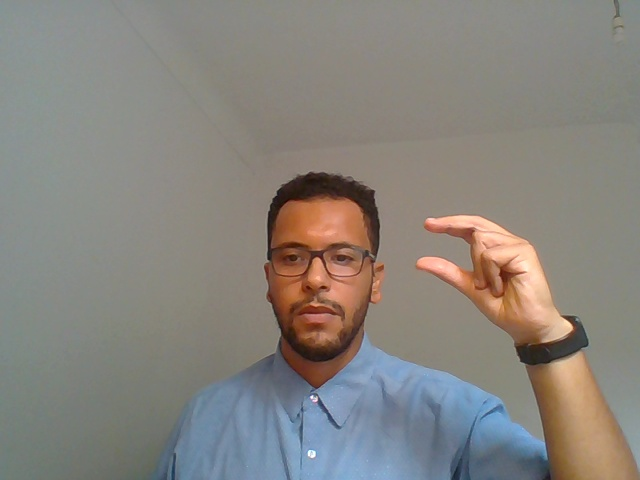no: (395, 182, 592, 408)
